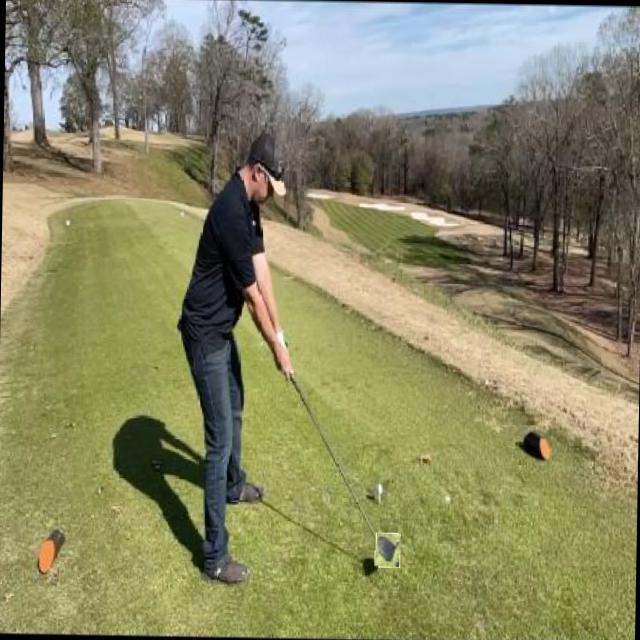club head: (374, 532, 400, 567)
